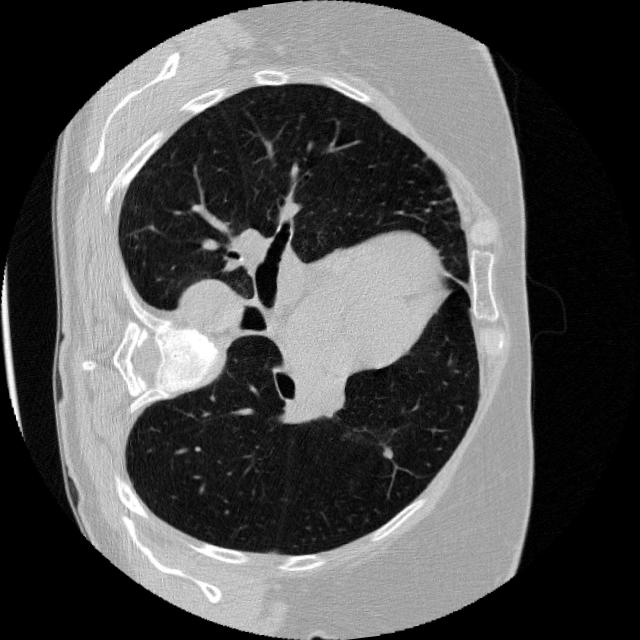nodule: (376, 442, 400, 468)
